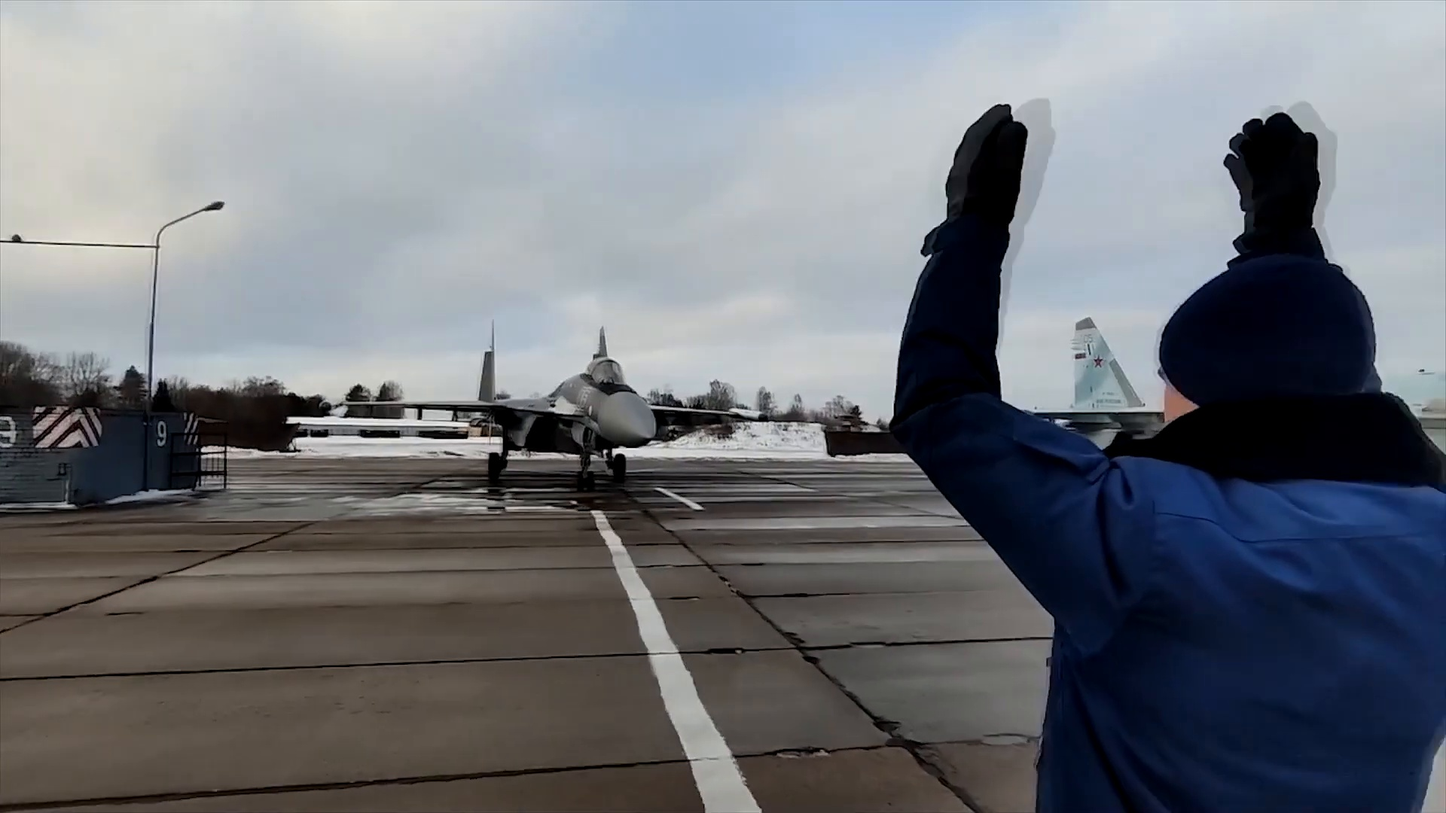Su35: (317, 321, 770, 482)
